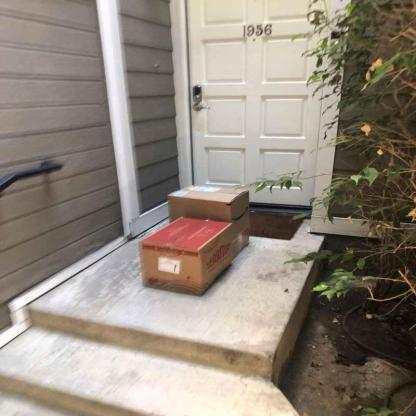label: (155, 255, 183, 274), (191, 182, 223, 193), (170, 189, 190, 199)
package: (138, 215, 236, 296), (167, 185, 250, 255)
